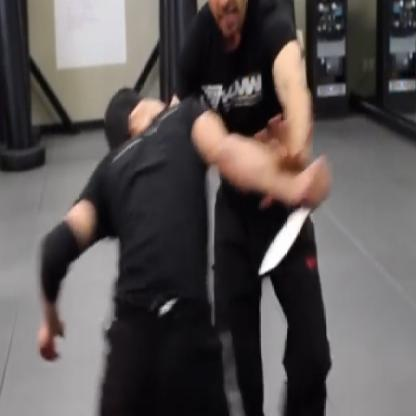knife: (252, 150, 334, 282)
